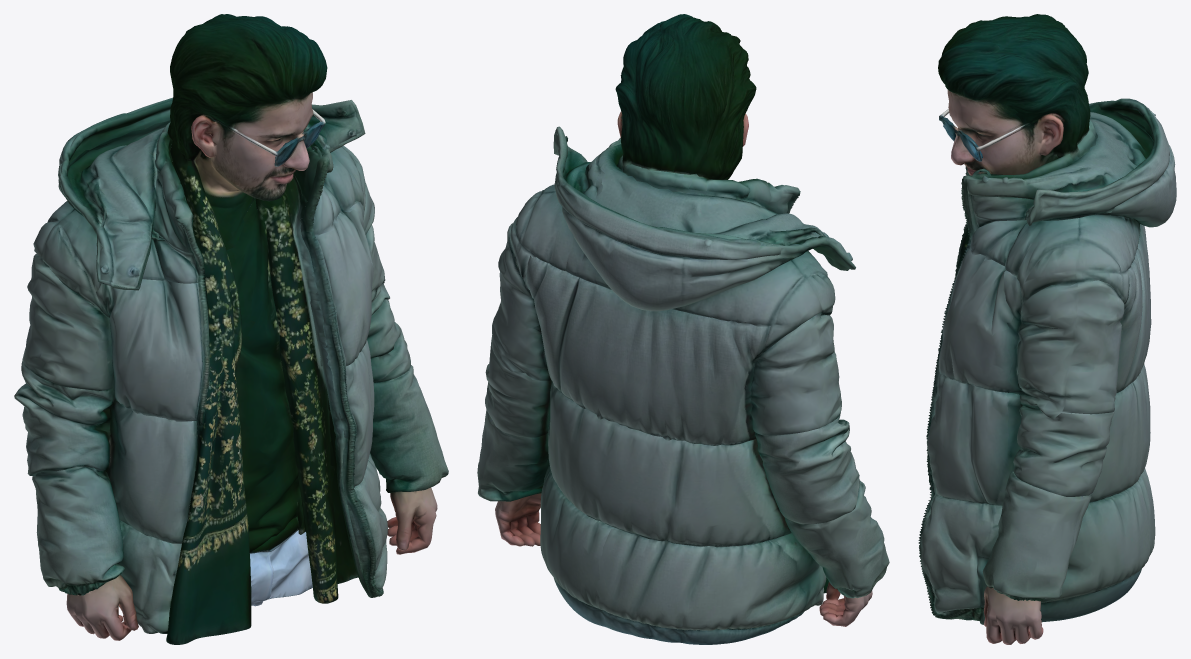
File: character2.glb
3 renders of one model, left to right at view 1: azimuth 30°, elevation 25°; view 2: azimuth 150°, elevation 25°; view 3: azimuth 270°, elevation 25°, orthographic. The views are drawn at different scales.
Visible parts, largest first — view 1: tripo_part_0; view 2: tripo_part_0; view 3: tripo_part_0.
Boxes of the visible parts, x1,y1,x2,y2 form: tripo_part_0: (14, 14, 448, 644); tripo_part_0: (477, 14, 889, 644); tripo_part_0: (918, 14, 1176, 644).
Size of the model in its own units: 0.73 by 1 by 0.4249.
Materials: 1 (1 with a texture image).
